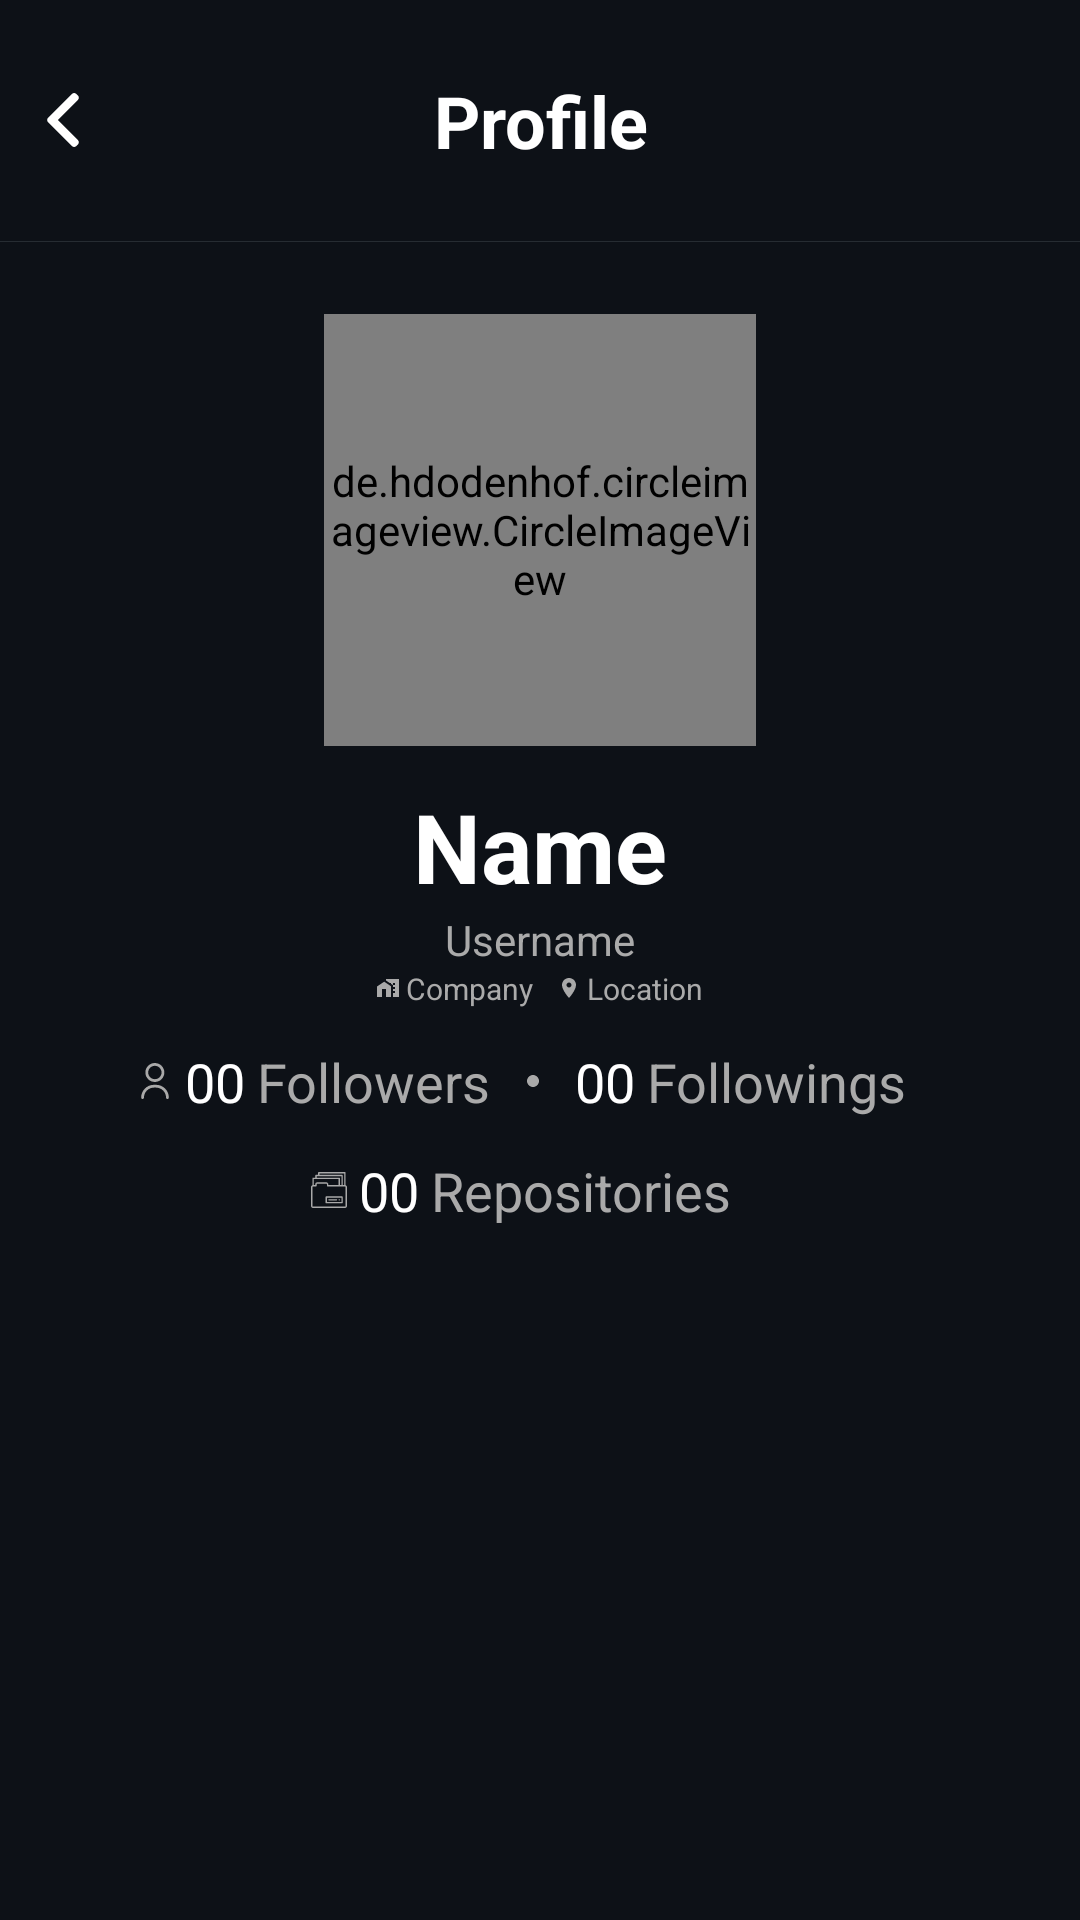

Where to tap for icons on this 1080*1920 app screen, as [x,y]:
folder: [329,1190]
left arrow: [63,120]
user: [155,1081]
